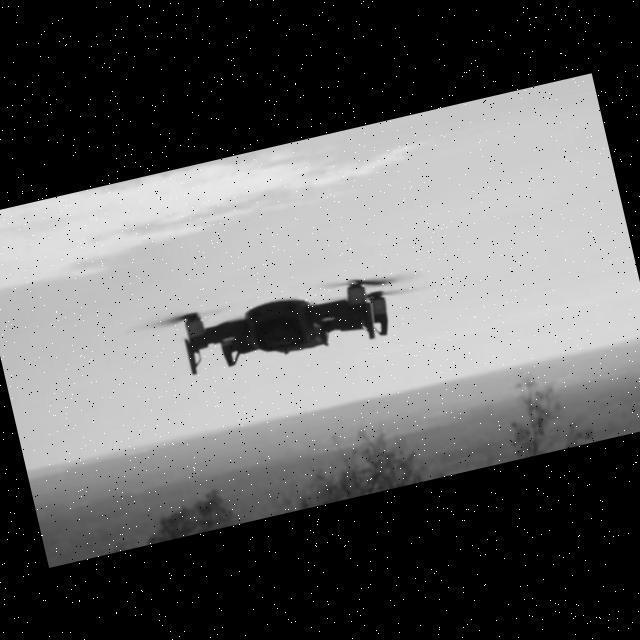Drons: (122, 242, 438, 403)
